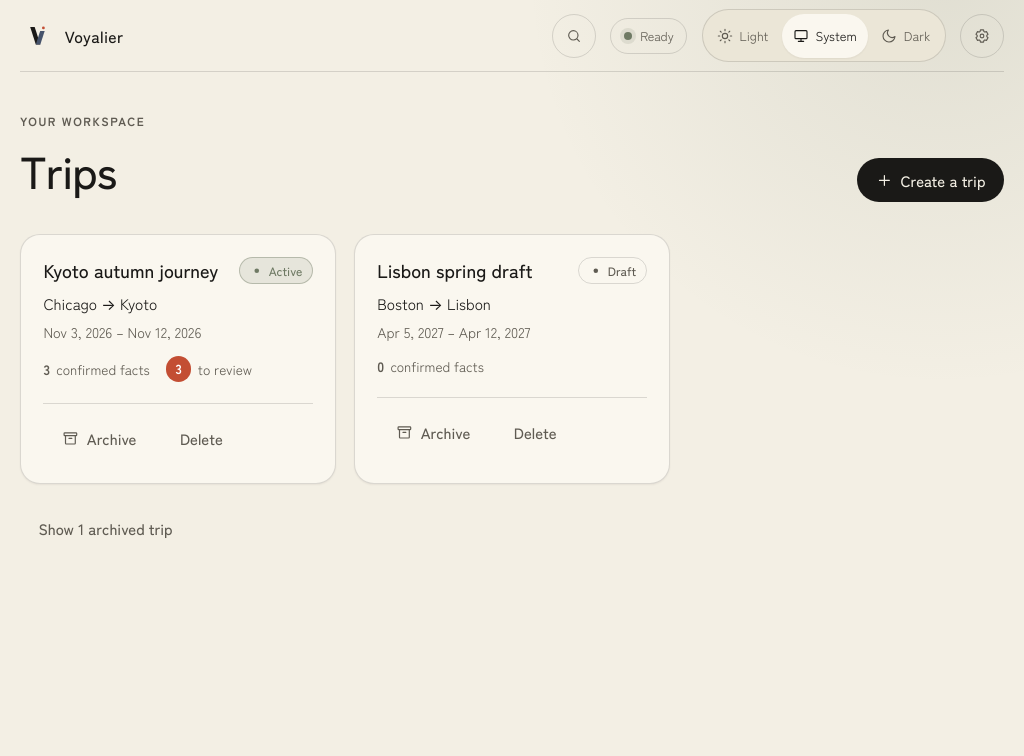
Test: weather layers › shows what the dates are typically like, with the sample behind it
The image size is (1024, 756).
Click the button with aria-label "Open Kyoto autumn journey".
click(131, 270)  # box x1=43 y1=257 x2=218 y2=283
(page scrolled)
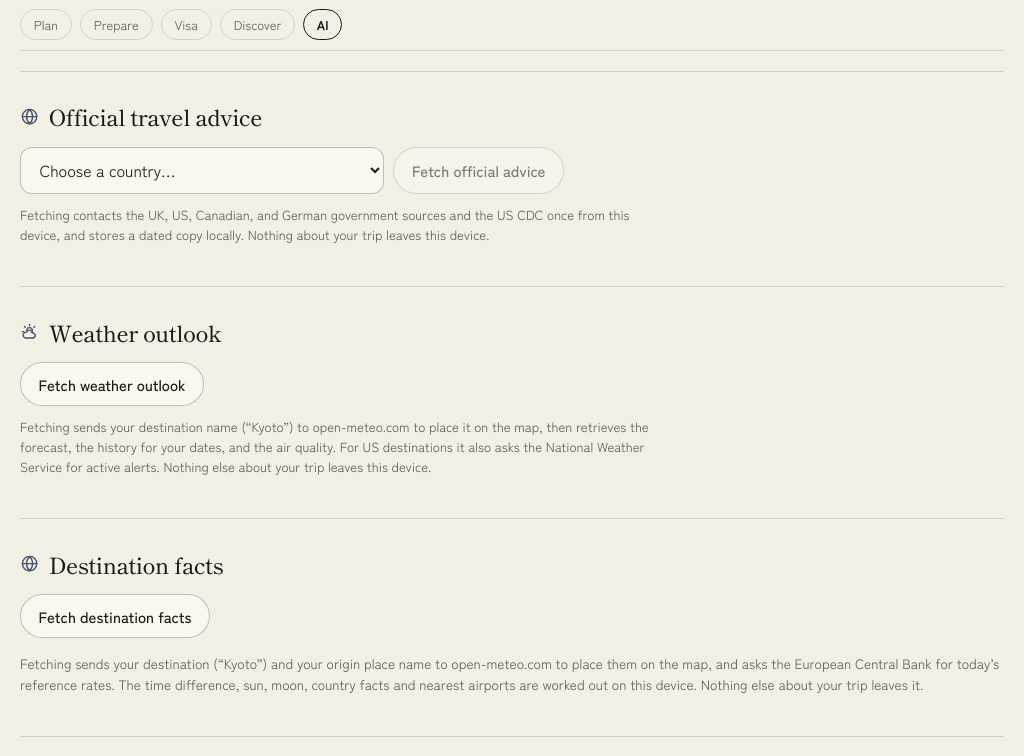
Click the button "Fetch weather outlook".
click(112, 384)  # box x1=20 y1=362 x2=204 y2=406
(page scrolled)
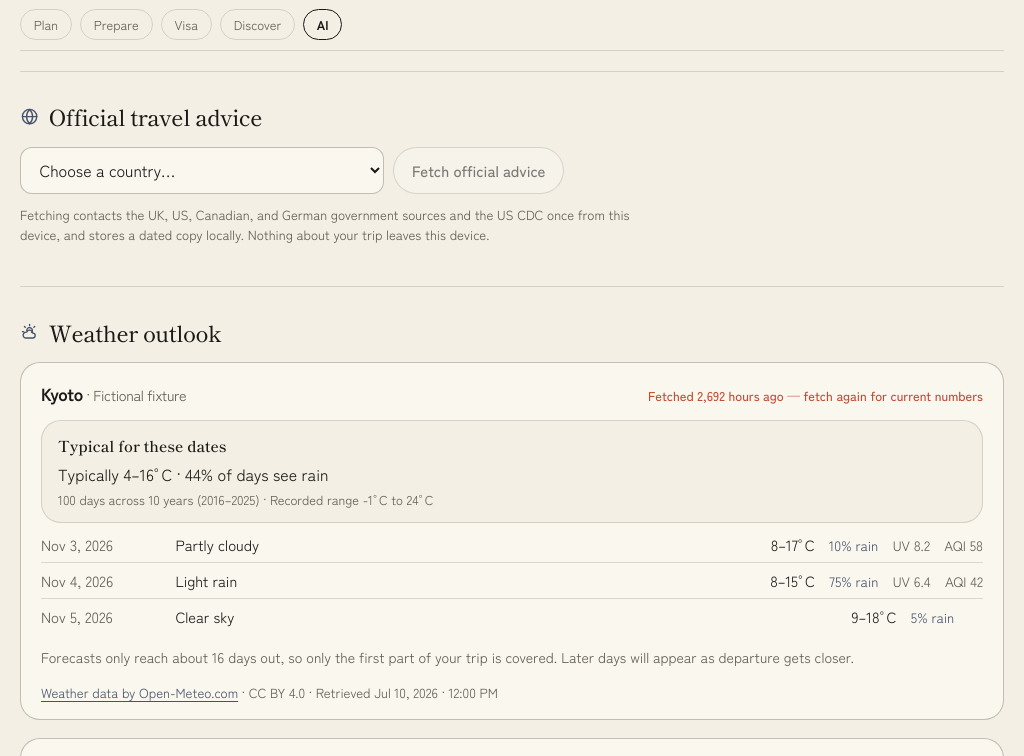
Expected: the text "Partly cloudy" is shown, x1=175 y1=534 x2=259 y2=555
Expected: the text "Typically 4–16°C · 44% of days see rain" is shown, x1=58 y1=462 x2=328 y2=486
Expected: the text "100 days across 10 years (2016–2025)" is shown, x1=58 y1=490 x2=260 y2=509
